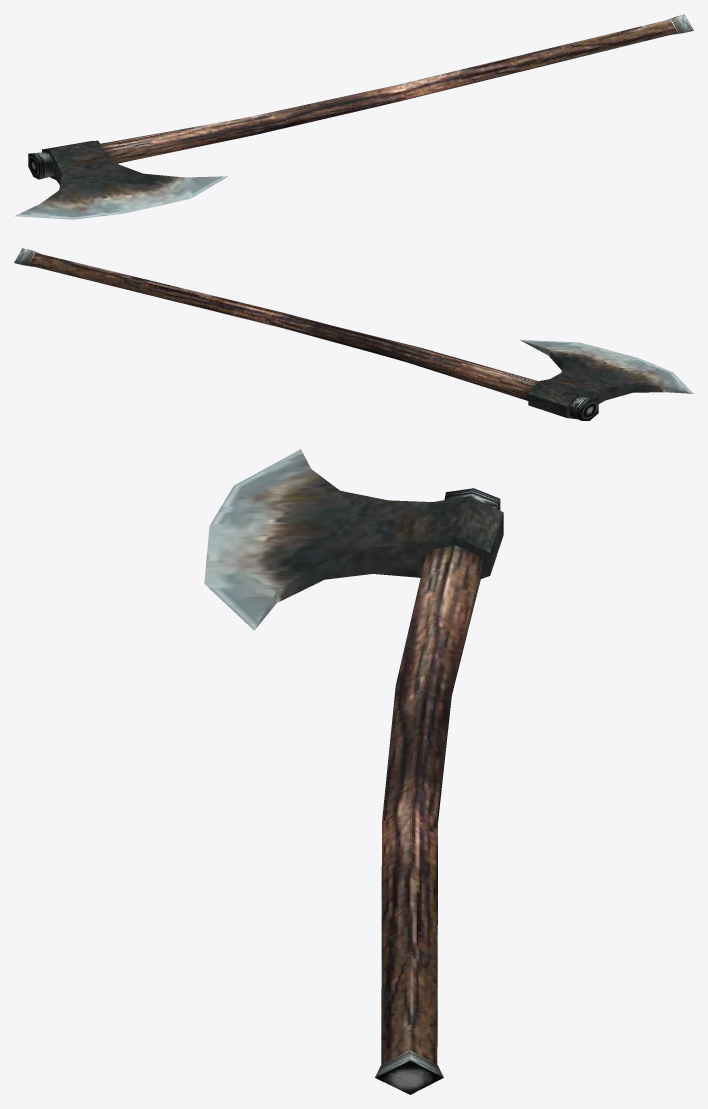
The model's file is ITMW_020_2H_AXE_LUMBERJACK_01.glb.
3 renders of one model, top to bottom at view 1: azimuth 30°, elevation 25°; view 2: azimuth 150°, elevation 25°; view 3: azimuth 270°, elevation 25°, orthographic. The views are drawn at different scales.
Visible parts, largest first — view 1: ITMW_020_2H_AXE_LUMBERJACK_01; view 2: ITMW_020_2H_AXE_LUMBERJACK_01; view 3: ITMW_020_2H_AXE_LUMBERJACK_01.
Part boxes in pixels (bbox=[...]): ITMW_020_2H_AXE_LUMBERJACK_01: bbox=[14, 14, 693, 219]; ITMW_020_2H_AXE_LUMBERJACK_01: bbox=[14, 248, 693, 420]; ITMW_020_2H_AXE_LUMBERJACK_01: bbox=[204, 449, 503, 1094].
Size of the model in its own units: 1.04 by 0.0393 by 0.2084.
2 materials, 2 textured.
